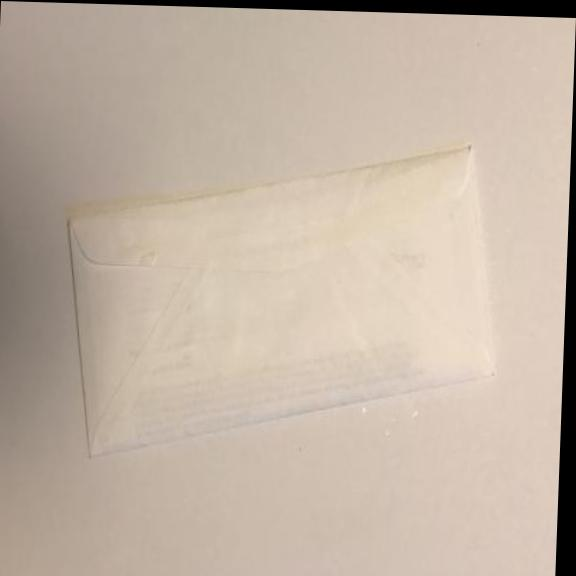Kertas: (47, 123, 502, 475)
